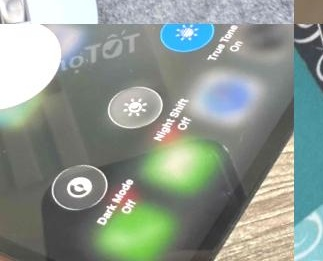scratch: (211, 24, 294, 99)
